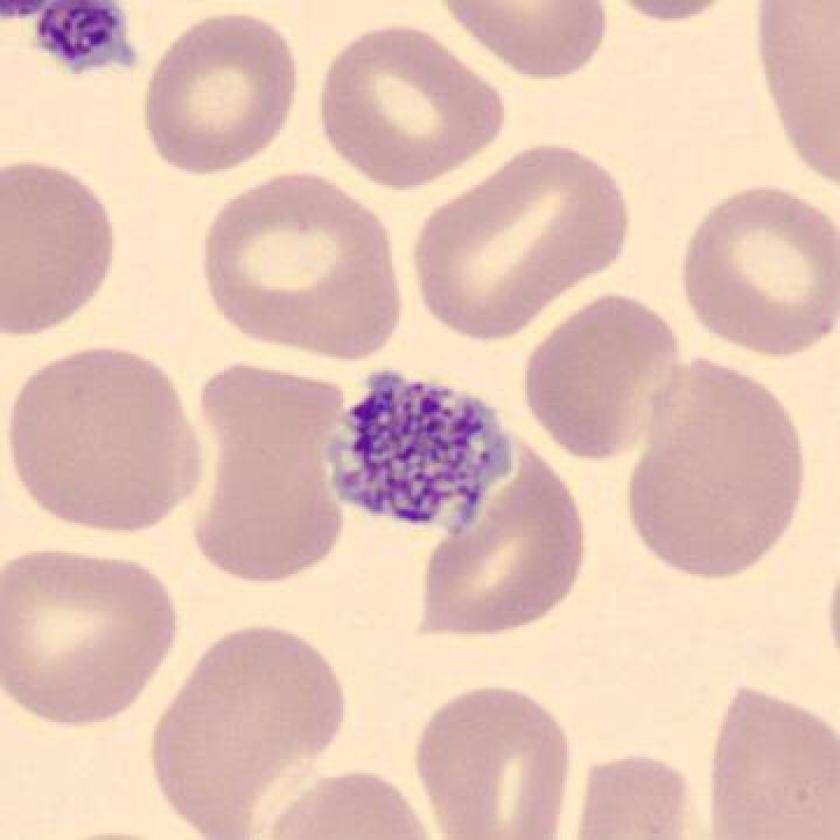platelets: (311, 367, 526, 545), (38, 1, 145, 84)
